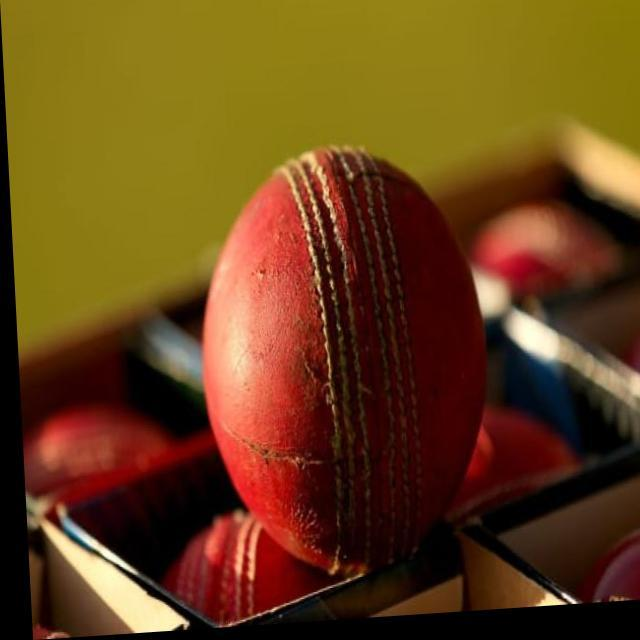cricket ball: (197, 147, 484, 579)
